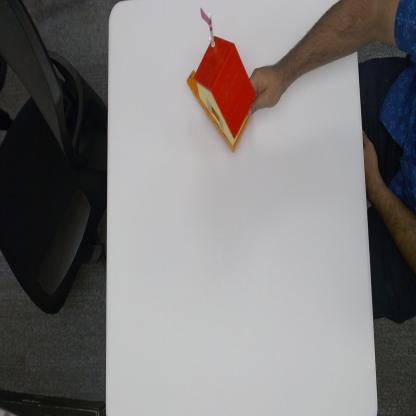Arm: (284, 0, 359, 83)
Hand: (251, 61, 282, 115)
House: (186, 3, 256, 150)
